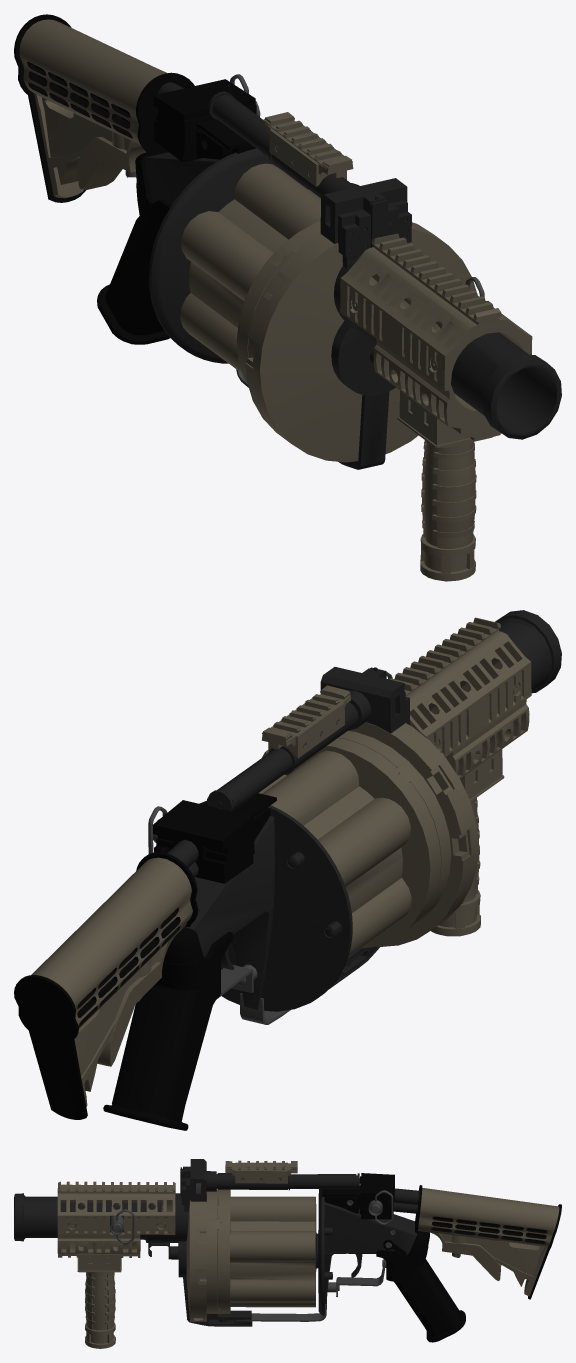
The model's file is mgl.fbx.
3 renders of one model, top to bottom at view 1: azimuth 30°, elevation 25°; view 2: azimuth 150°, elevation 25°; view 3: azimuth 270°, elevation 25°, orthographic. The views are drawn at different scales.
Visible parts, largest first — view 1: MGL; view 2: MGL; view 3: MGL.
Boxes of the visible parts, x1,y1,x2,y2 form: MGL: [14, 14, 561, 581]; MGL: [14, 610, 561, 1130]; MGL: [14, 1159, 561, 1348].
Size of the model in its own units: 32.51 by 46.12 by 127.
